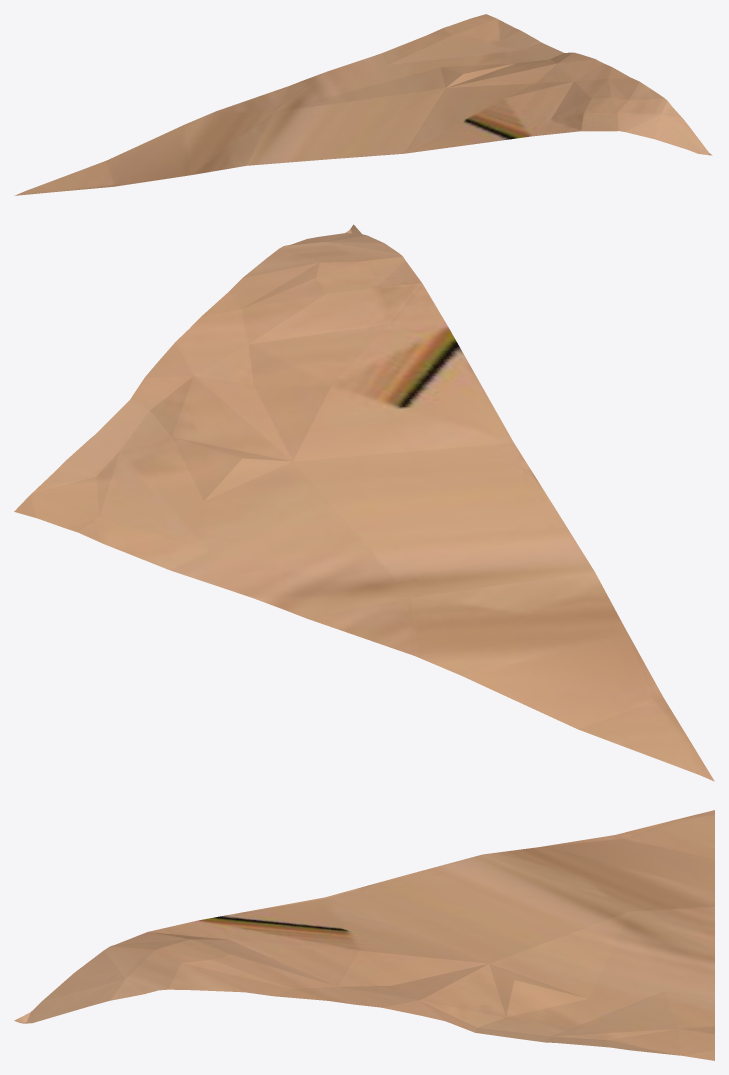
The picture shows the model from 3 angles, top to bottom: view 1: azimuth 30°, elevation 25°; view 2: azimuth 150°, elevation 25°; view 3: azimuth 270°, elevation 25°; orthographic projection. The views are drawn at different scales.
Size of the model in its own units: 0.8293 by 0.193 by 0.6958.
1 material, 1 textured.
